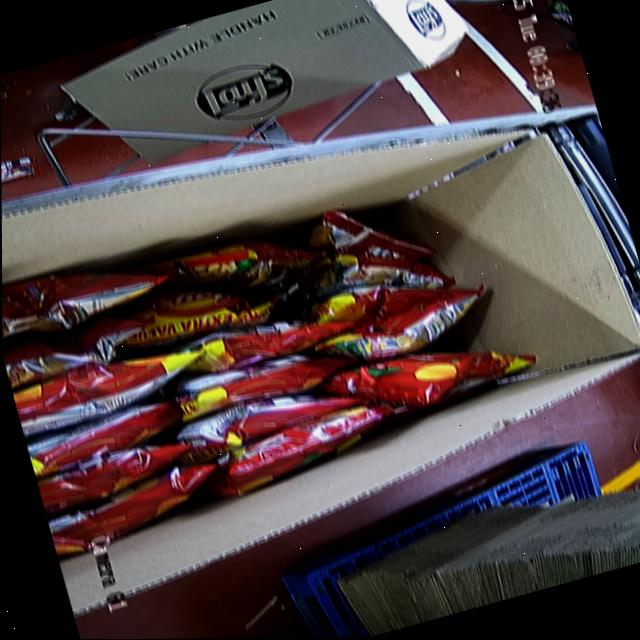MASALA: (1, 152, 554, 560)
